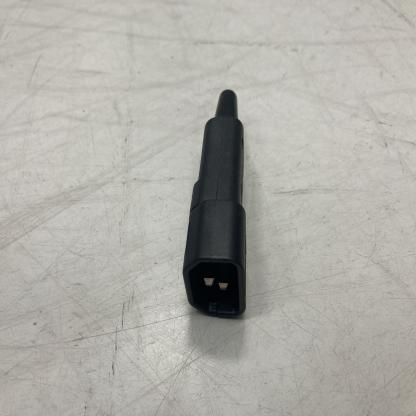SP0000004: (120, 33, 300, 344)
